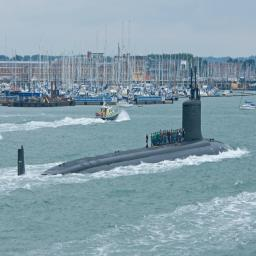submarine: (19, 64, 241, 191)
